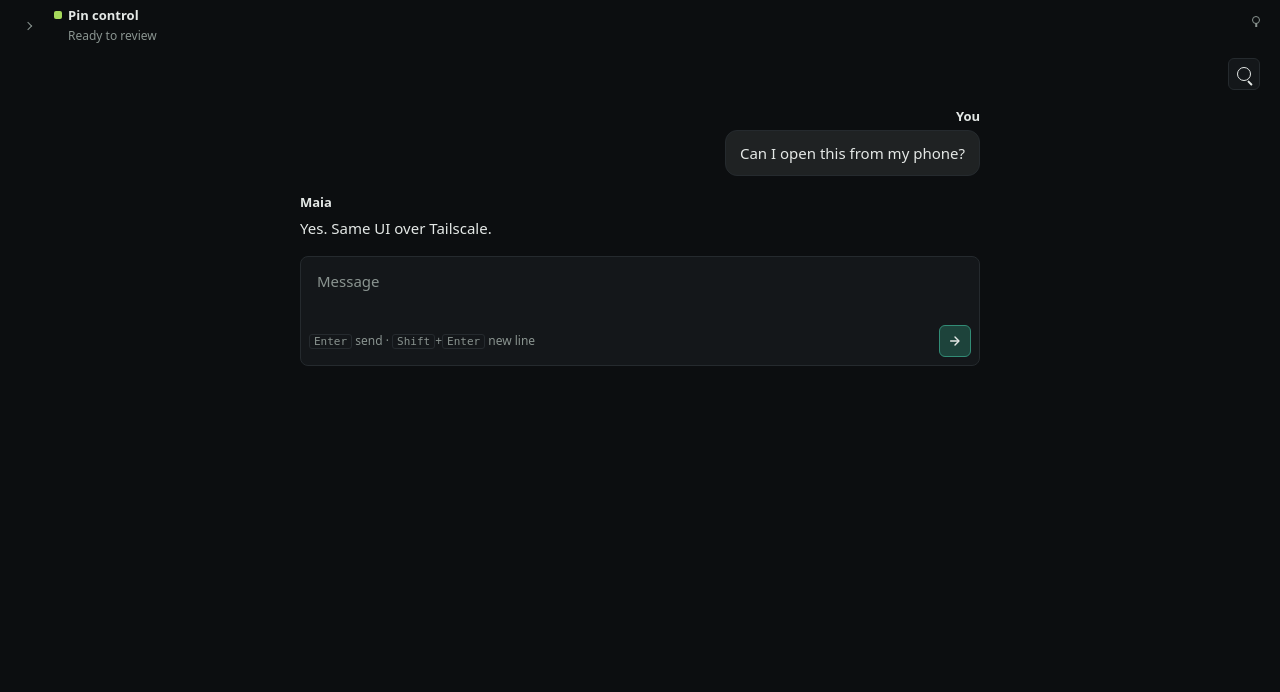
Test: RouterConversation › quotes into an empty composer as a task reference
Step 1. Click the button with aria-label "Open Pin control" → (103,15), box [54,6,1234,46]
(page scrolled)
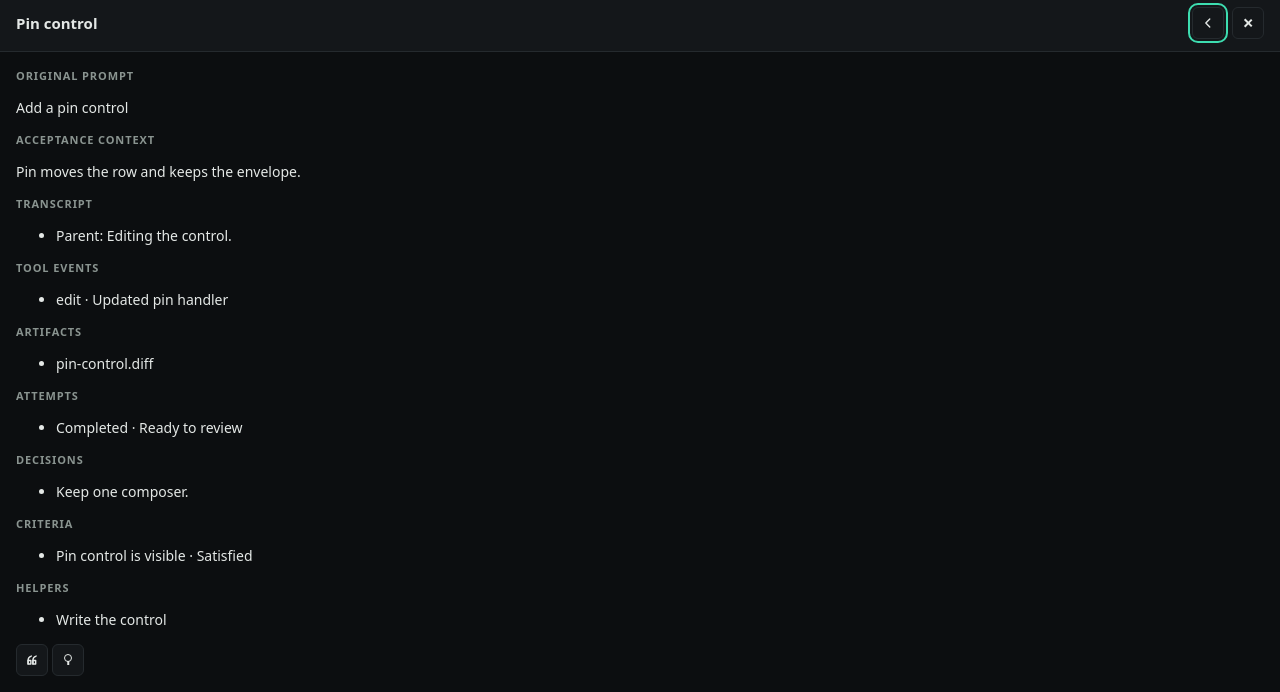
Step 2. Click the button named "Quote task" → (32,660), box [16,644,48,676]
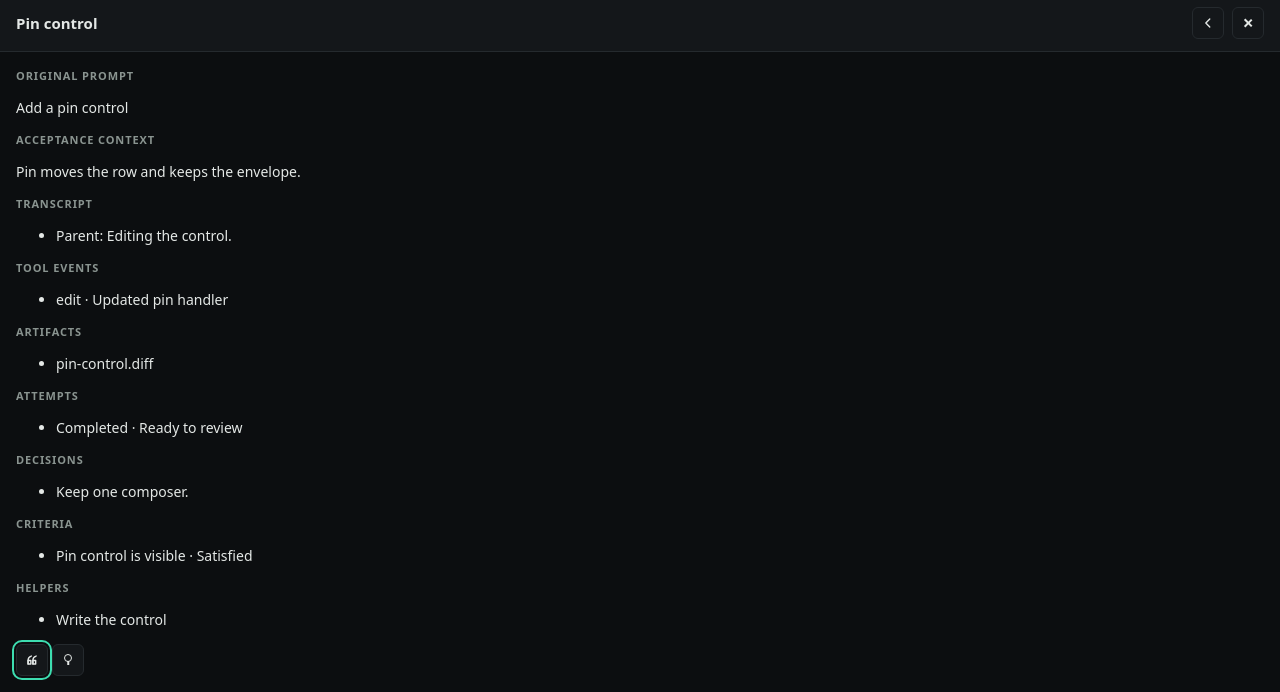
Step 3. Click the button named "Back to chat" → (1208,23), box [1192,7,1224,39]
(page scrolled)
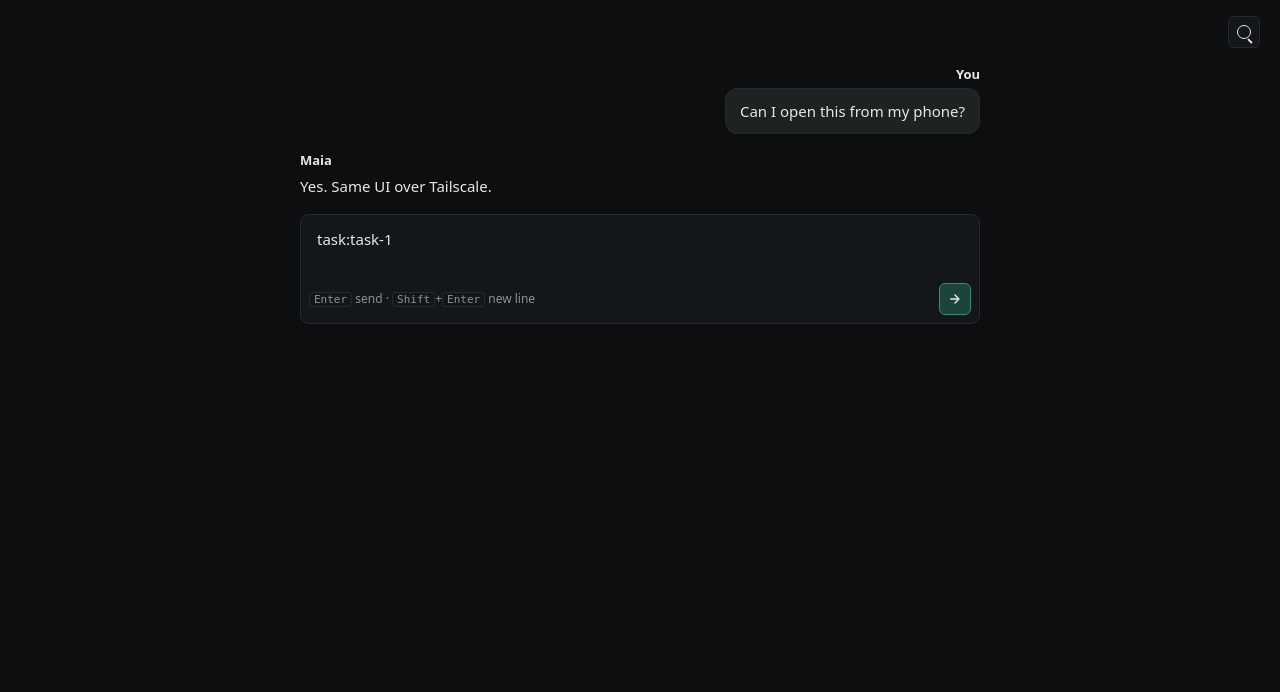
Expected: the text box named "Message" holds "task:task-1 ", [301,215,979,275]
